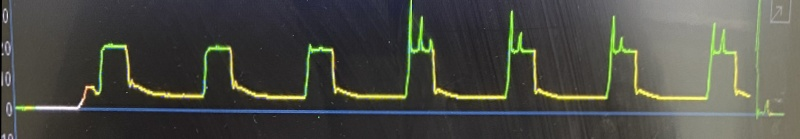hydrop_pressure: (394, 2, 754, 122)
normal_pressure: (87, 35, 377, 112)
